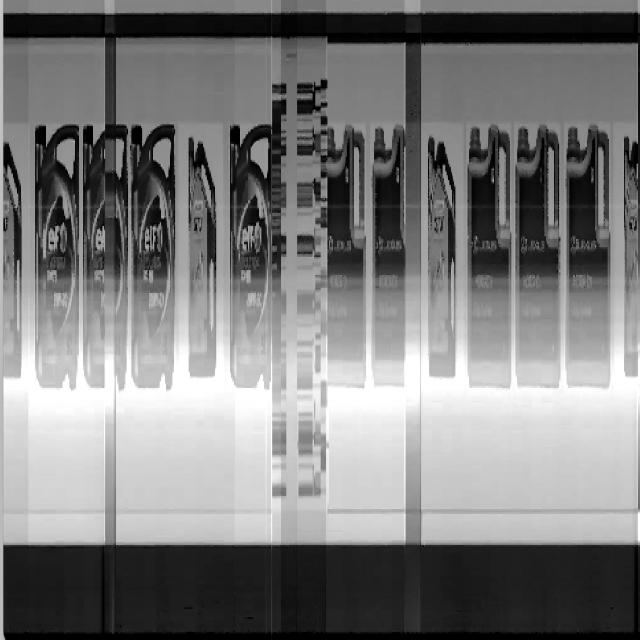motor_oil: (318, 113, 371, 390), (33, 121, 84, 396), (513, 122, 562, 391), (564, 120, 612, 393), (467, 121, 513, 391), (130, 121, 176, 391), (422, 131, 458, 387), (187, 133, 220, 382)
